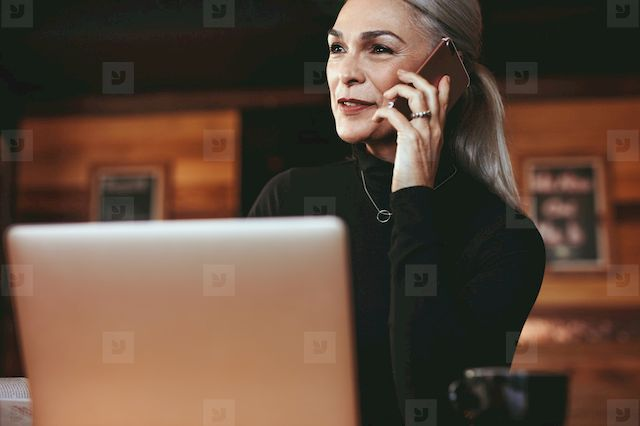phone: (392, 39, 470, 135)
talk: (322, 21, 471, 181)
